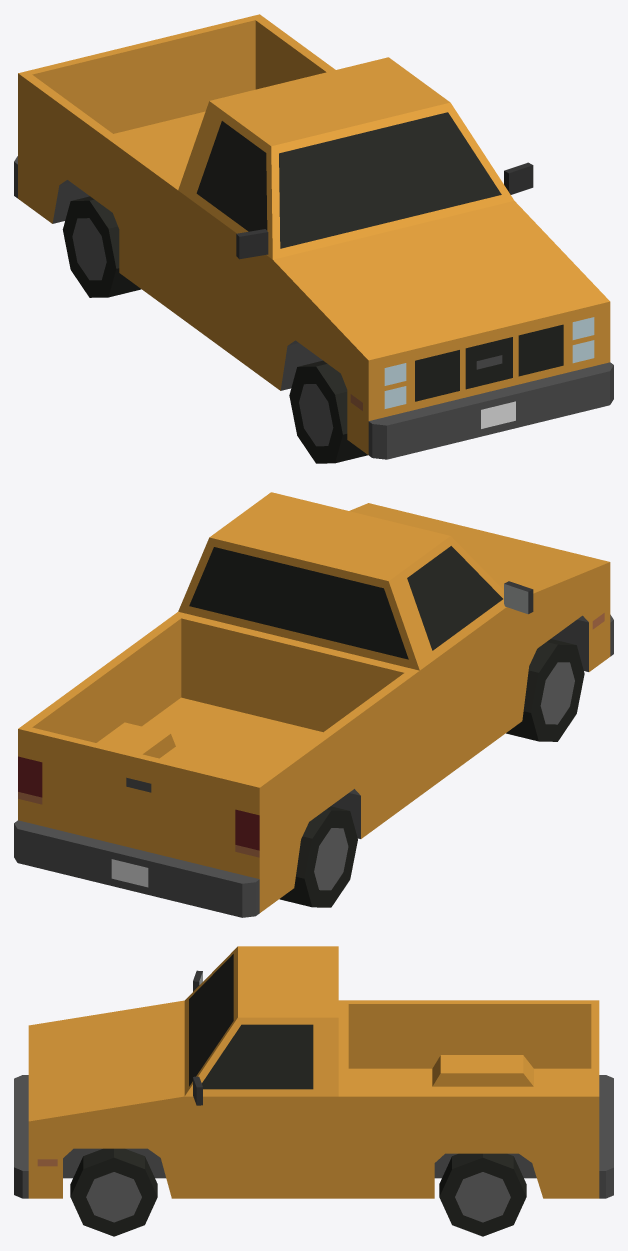
Rendered from Veh_Pickup_02_Yellow.obj.
3 renders of one model, top to bottom at view 1: azimuth 30°, elevation 25°; view 2: azimuth 150°, elevation 25°; view 3: azimuth 270°, elevation 25°, orthographic. The views are drawn at different scales.
Bounding box in the file's own units: 1.43 × 1.18 × 3.11.
